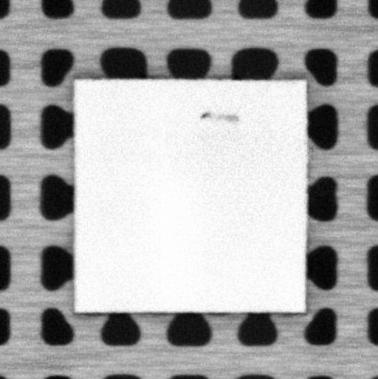DIE_INK: (199, 109, 239, 123)
